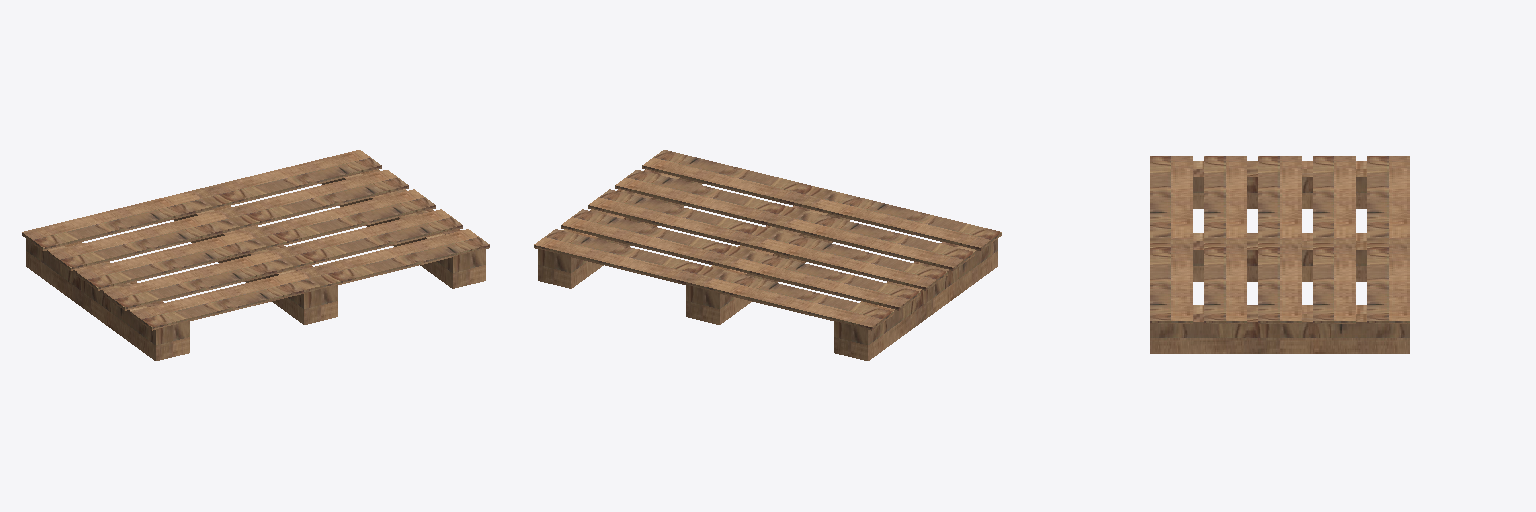
3 renders of one model, left to right at view 1: azimuth 30°, elevation 25°; view 2: azimuth 150°, elevation 25°; view 3: azimuth 270°, elevation 25°, orthographic.
Parts seen in each view (by area): view 1: pallet; view 2: pallet; view 3: pallet.
Boxes of the visible parts, <box> form: pallet: <box>22,150,489,360</box>; pallet: <box>534,150,1001,360</box>; pallet: <box>1150,156,1409,353</box>.
Size of the model in its own units: 1.8 by 0.1783 by 1.2.
1 materials, 1 textured.